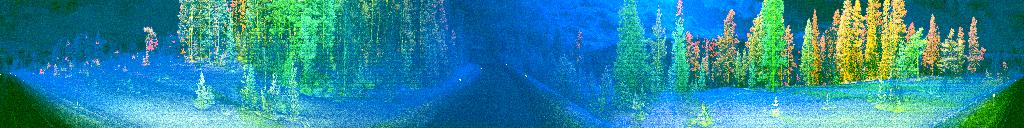pole: (991, 80, 997, 108), (76, 84, 80, 118)
